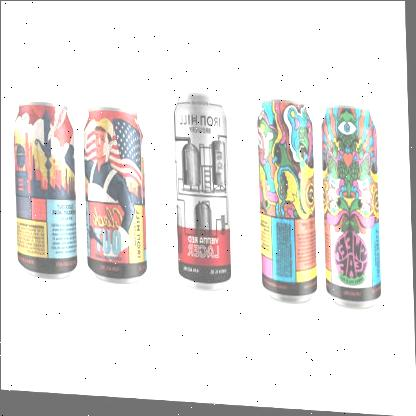Can: (319, 99, 389, 315), (254, 93, 318, 309), (10, 99, 80, 289), (81, 107, 151, 292), (172, 88, 233, 298)
